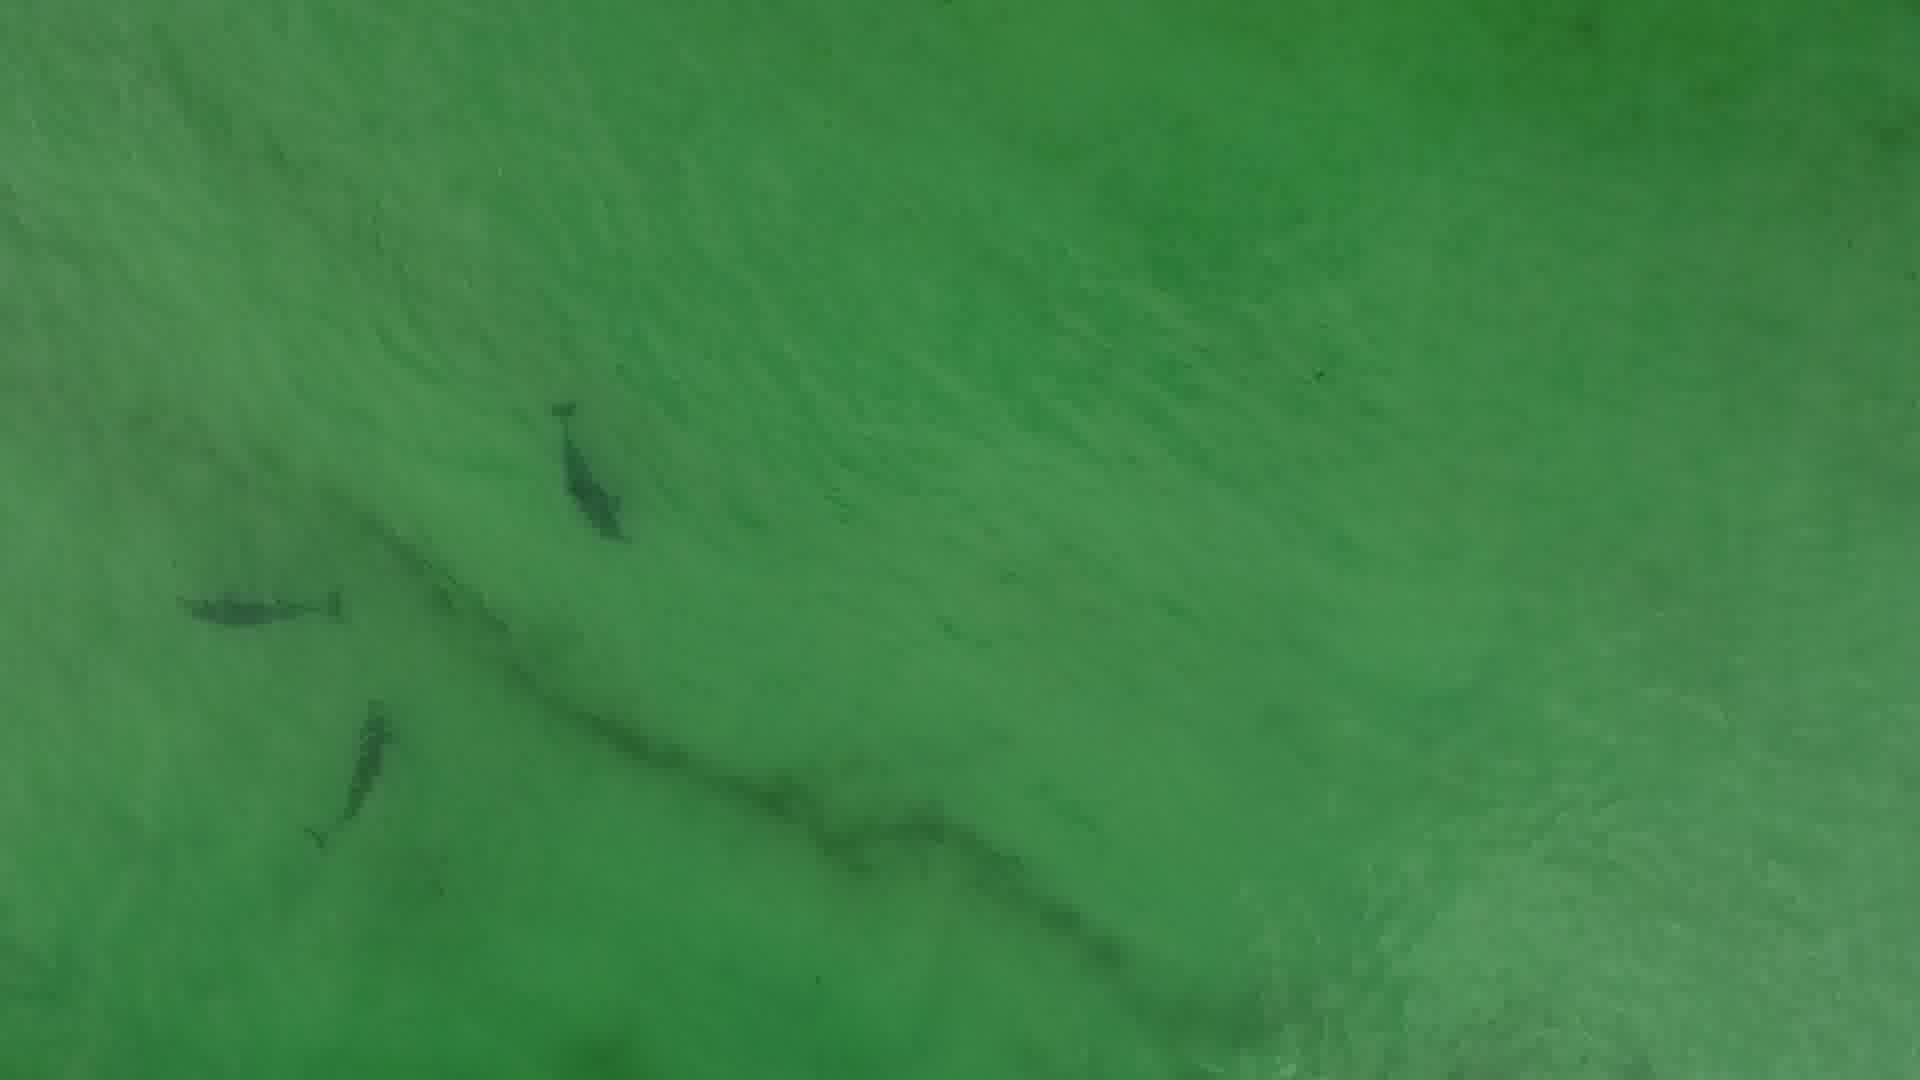dolphin: (513, 342, 651, 566), (113, 545, 376, 659), (330, 667, 405, 885)
